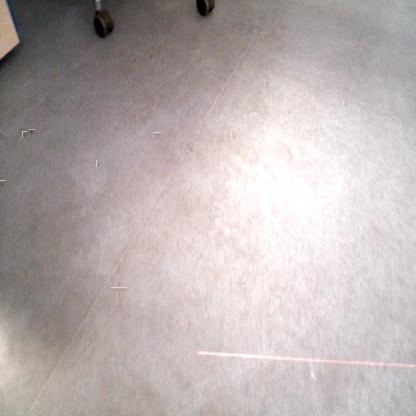mark: (114, 285, 125, 295), (185, 140, 193, 152), (236, 279, 244, 287), (231, 129, 236, 140), (0, 180, 6, 189), (264, 80, 270, 88), (154, 132, 161, 138), (96, 160, 101, 168), (22, 131, 27, 138), (178, 240, 182, 248), (343, 100, 348, 106), (30, 129, 35, 134)
